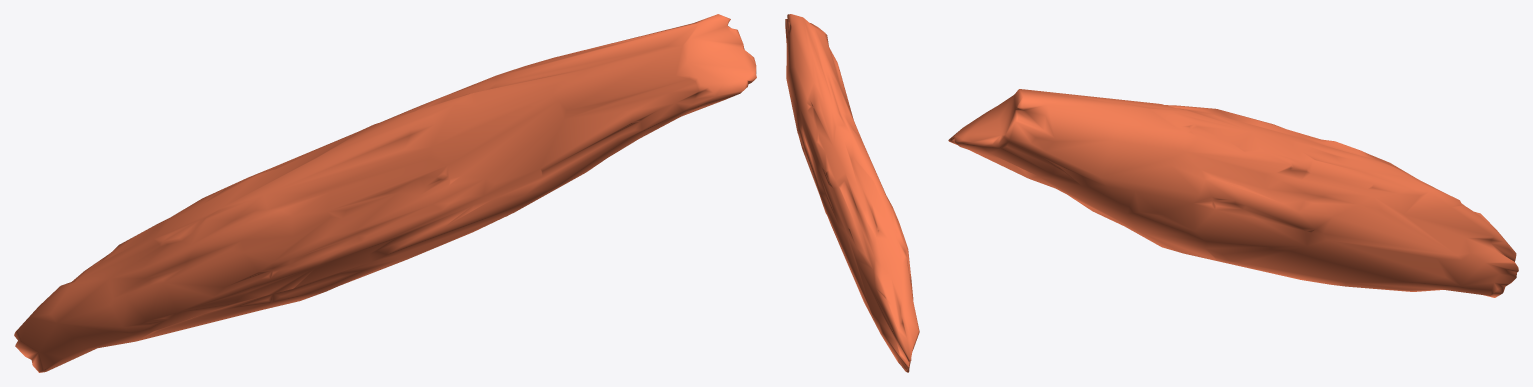
The model's file is Obliquus_capitis_inferior_left.glb.
The picture shows the model from 3 angles, left to right: view 1: azimuth 30°, elevation 25°; view 2: azimuth 150°, elevation 25°; view 3: azimuth 270°, elevation 25°; orthographic projection. The views are drawn at different scales.
Visible parts, largest first — view 1: Obliquus_inferior_capitis_muscle.l_Generated_Mesh_From_X3D.3; view 2: Obliquus_inferior_capitis_muscle.l_Generated_Mesh_From_X3D.3; view 3: Obliquus_inferior_capitis_muscle.l_Generated_Mesh_From_X3D.3.
Boxes of the visible parts, bbox=[...] form: Obliquus_inferior_capitis_muscle.l_Generated_Mesh_From_X3D.3: bbox=[14, 14, 756, 372]; Obliquus_inferior_capitis_muscle.l_Generated_Mesh_From_X3D.3: bbox=[785, 14, 919, 372]; Obliquus_inferior_capitis_muscle.l_Generated_Mesh_From_X3D.3: bbox=[948, 89, 1518, 297].
Size of the model in its own units: 0.0387 by 0.0315 by 0.0378.
